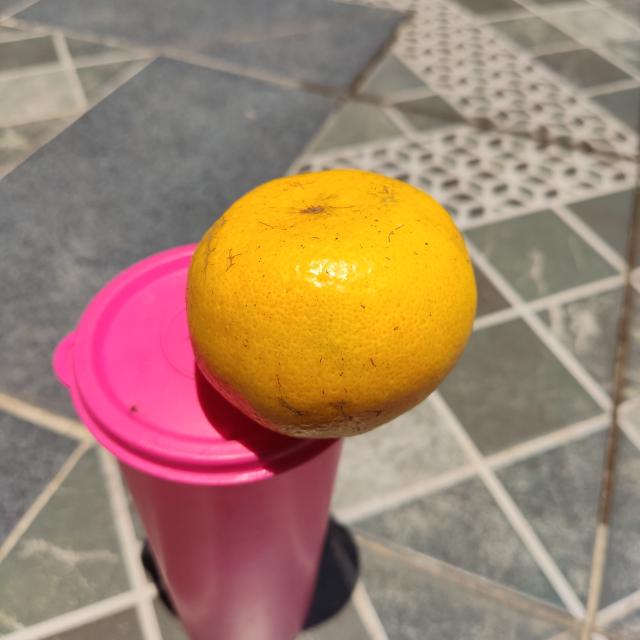orange: (186, 165, 477, 444)
